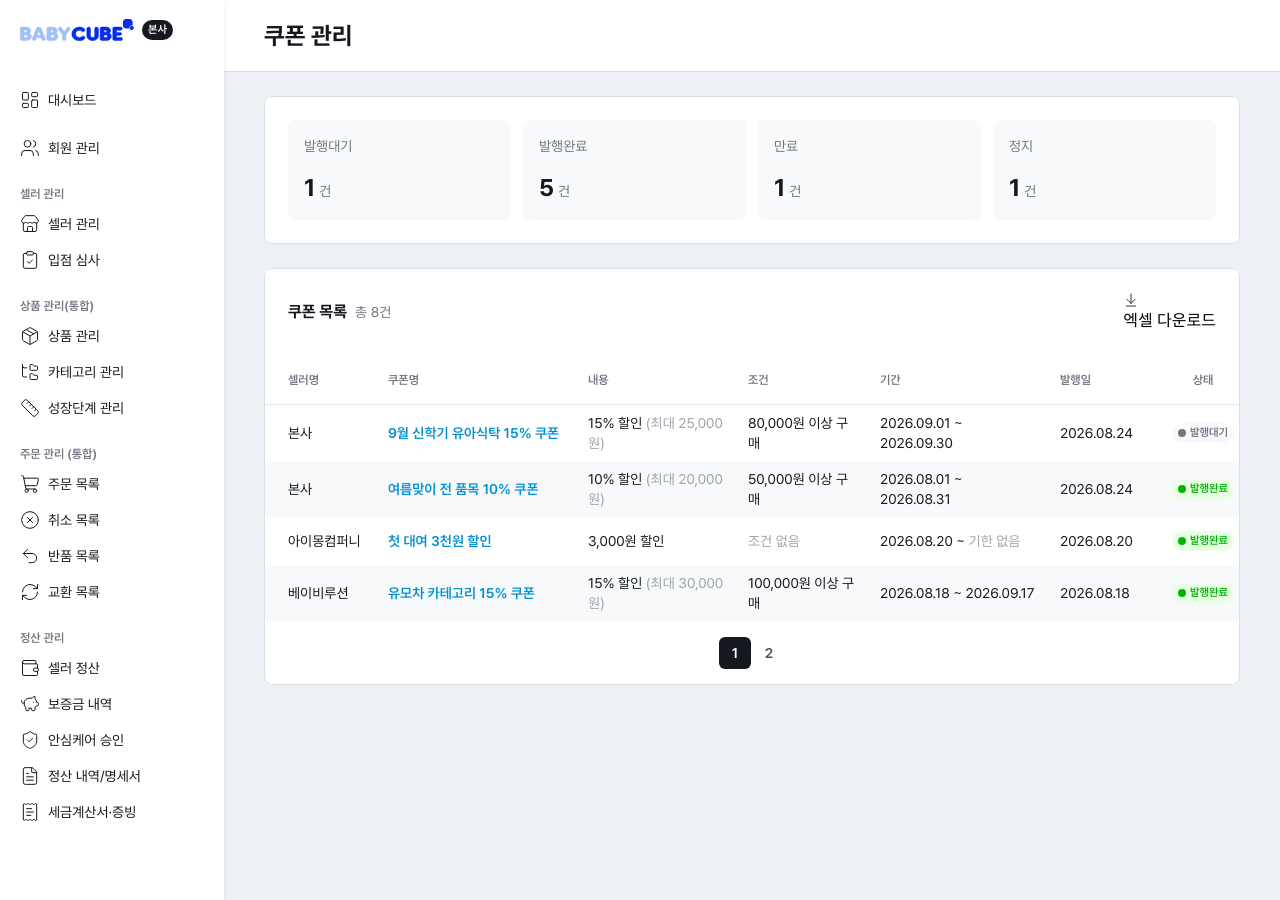
Test: CouponListPage › 상태 열 — 기간에서 파생된다 › 종료일이 지나면 만료다
Click the button "2" at (769, 652), box [753, 636, 785, 668]
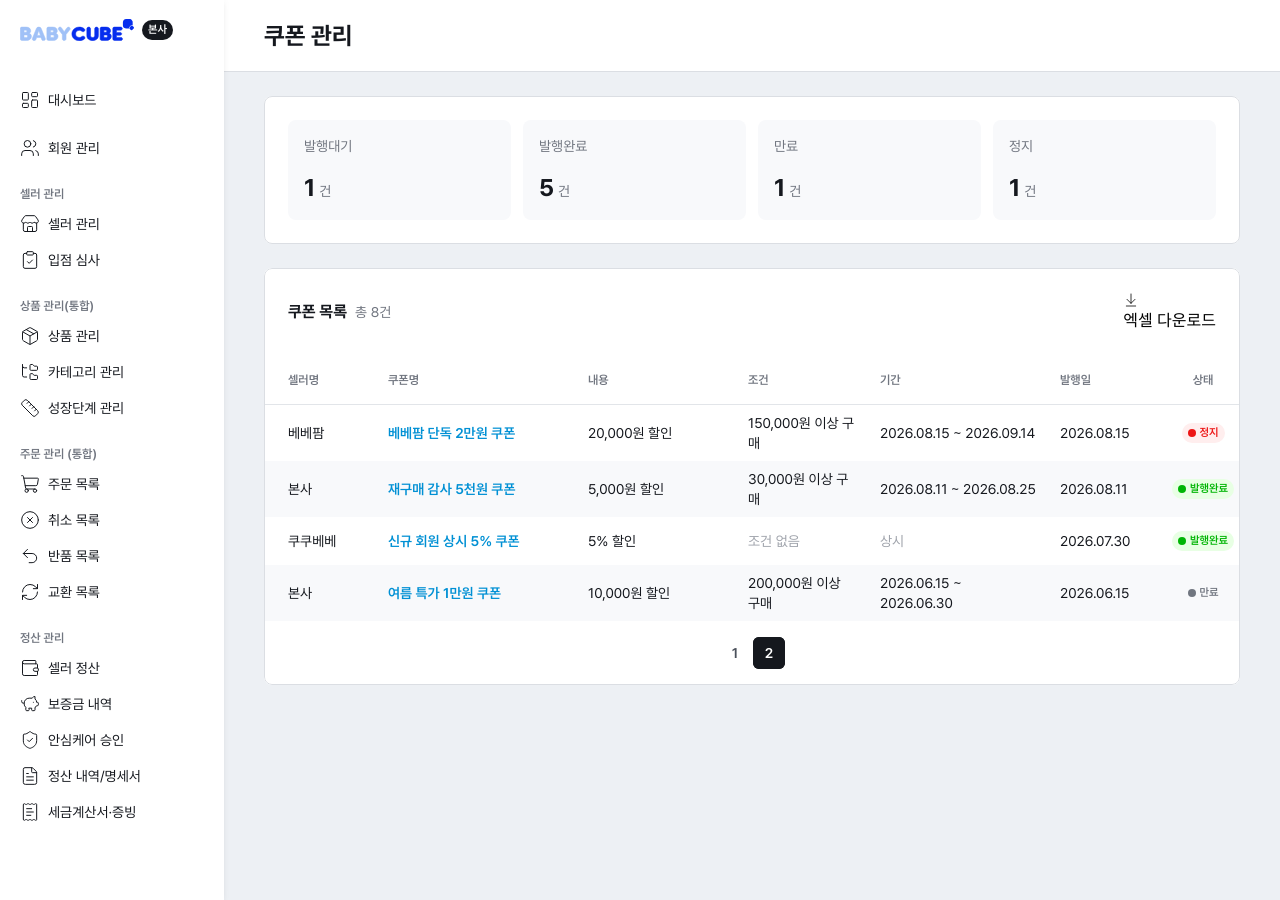
Check: the button "여름 특가 1만원 쿠폰" is shown, box [388, 580, 501, 604]
